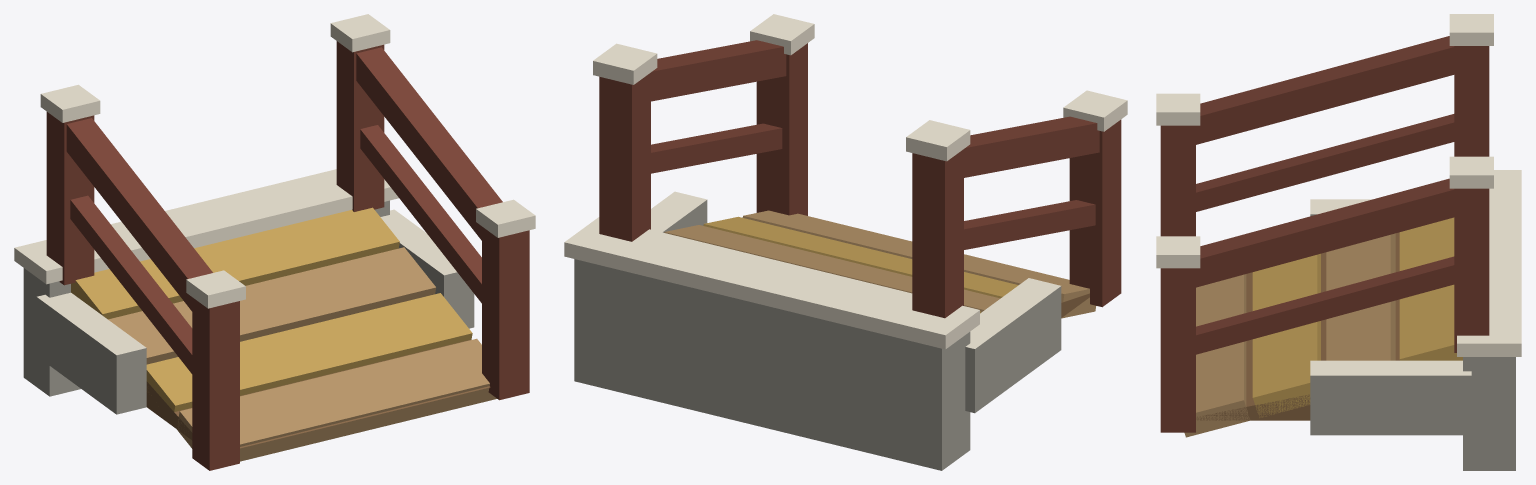
File: footbridge-end.glb
3 renders of one model, left to right at view 1: azimuth 30°, elevation 25°; view 2: azimuth 150°, elevation 25°; view 3: azimuth 270°, elevation 25°, orthographic. The views are drawn at different scales.
Visible parts, largest first — view 1: footbridge-end; view 2: footbridge-end; view 3: footbridge-end.
Part boxes in pixels (x1=…): footbridge-end: x1=14, y1=14, x2=535, y2=470; footbridge-end: x1=564, y1=14, x2=1127, y2=470; footbridge-end: x1=1156, y1=14, x2=1521, y2=470.
Bounding box in the file's own units: 2.84 × 2.2 × 2.49.
1 material, 1 textured.
